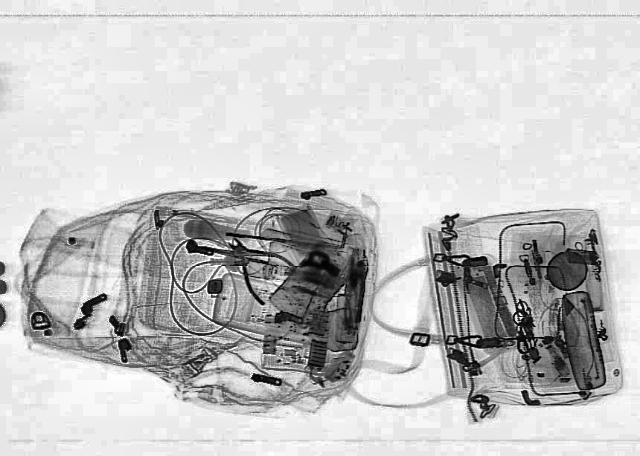Pliers: (202, 228, 310, 306)
